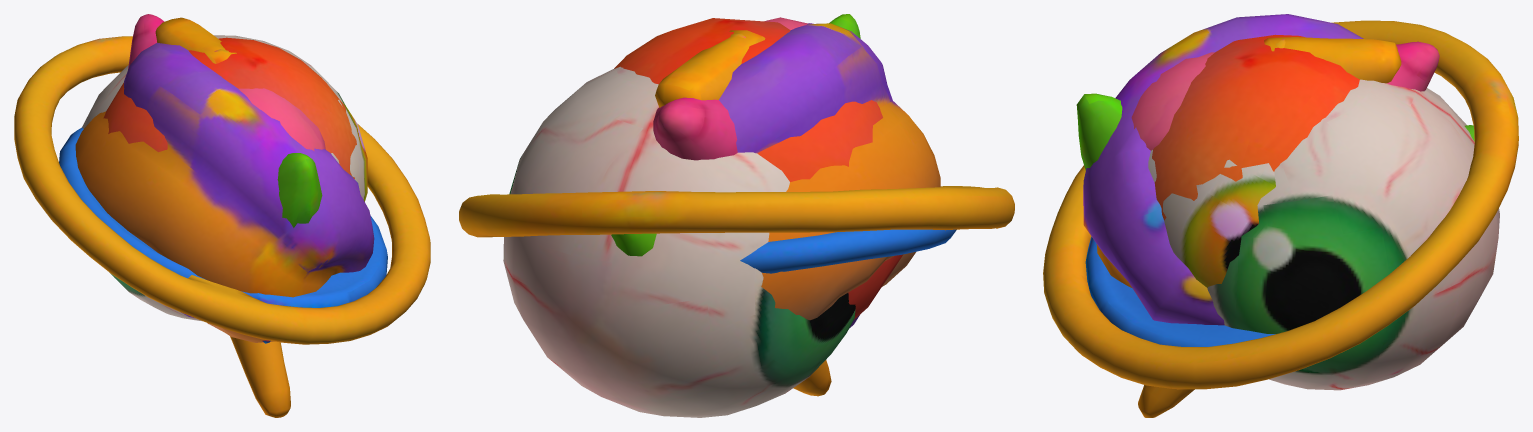
Rendered from 3delements_lowpoly.glb.
3 renders of one model, left to right at view 1: azimuth 30°, elevation 25°; view 2: azimuth 150°, elevation 25°; view 3: azimuth 270°, elevation 25°, orthographic. The views are drawn at different scales.
Visible parts, largest first — view 1: tripo_mesh_177b3e90_34ef_4382_8921_0266af9fbe1d.012, tripo_mesh_177b3e90_34ef_4382_8921_0266af9fbe1d.020, tripo_mesh_177b3e90_34ef_4382_8921_0266af9fbe1d.015, tripo_mesh_177b3e90_34ef_4382_8921_0266af9fbe1d.019, tripo_mesh_177b3e90_34ef_4382_8921_0266af9fbe1d.014, tripo_mesh_177b3e90_34ef_4382_8921_0266af9fbe1d.009, tripo_mesh_177b3e90_34ef_4382_8921_0266af9fbe1d.001, tripo_mesh_177b3e90_34ef_4382_8921_0266af9fbe1d, tripo_mesh_177b3e90_34ef_4382_8921_0266af9fbe1d.013; view 2: tripo_mesh_177b3e90_34ef_4382_8921_0266af9fbe1d.001, tripo_mesh_177b3e90_34ef_4382_8921_0266af9fbe1d.020, tripo_mesh_177b3e90_34ef_4382_8921_0266af9fbe1d.012, tripo_mesh_177b3e90_34ef_4382_8921_0266af9fbe1d.015, tripo_mesh_177b3e90_34ef_4382_8921_0266af9fbe1d.019, tripo_mesh_177b3e90_34ef_4382_8921_0266af9fbe1d.013, tripo_mesh_177b3e90_34ef_4382_8921_0266af9fbe1d.014; view 3: tripo_mesh_177b3e90_34ef_4382_8921_0266af9fbe1d.020, tripo_mesh_177b3e90_34ef_4382_8921_0266af9fbe1d.001, tripo_mesh_177b3e90_34ef_4382_8921_0266af9fbe1d.012, tripo_mesh_177b3e90_34ef_4382_8921_0266af9fbe1d, tripo_mesh_177b3e90_34ef_4382_8921_0266af9fbe1d.015, tripo_mesh_177b3e90_34ef_4382_8921_0266af9fbe1d.019, tripo_mesh_177b3e90_34ef_4382_8921_0266af9fbe1d.009, tripo_mesh_177b3e90_34ef_4382_8921_0266af9fbe1d.014, tripo_mesh_177b3e90_34ef_4382_8921_0266af9fbe1d.013.
Part boxes in pixels (x1,y1,x2,y2): tripo_mesh_177b3e90_34ef_4382_8921_0266af9fbe1d.012: [75, 42, 374, 342]; tripo_mesh_177b3e90_34ef_4382_8921_0266af9fbe1d.020: [14, 36, 430, 344]; tripo_mesh_177b3e90_34ef_4382_8921_0266af9fbe1d.015: [59, 127, 387, 317]; tripo_mesh_177b3e90_34ef_4382_8921_0266af9fbe1d.019: [155, 17, 290, 417]; tripo_mesh_177b3e90_34ef_4382_8921_0266af9fbe1d.014: [277, 153, 322, 227]; tripo_mesh_177b3e90_34ef_4382_8921_0266af9fbe1d.009: [239, 88, 325, 151]; tripo_mesh_177b3e90_34ef_4382_8921_0266af9fbe1d.001: [82, 35, 344, 321]; tripo_mesh_177b3e90_34ef_4382_8921_0266af9fbe1d: [331, 88, 367, 201]; tripo_mesh_177b3e90_34ef_4382_8921_0266af9fbe1d.013: [128, 14, 270, 343]; tripo_mesh_177b3e90_34ef_4382_8921_0266af9fbe1d.001: [503, 66, 855, 417]; tripo_mesh_177b3e90_34ef_4382_8921_0266af9fbe1d.020: [459, 18, 1014, 319]; tripo_mesh_177b3e90_34ef_4382_8921_0266af9fbe1d.012: [719, 23, 940, 320]; tripo_mesh_177b3e90_34ef_4382_8921_0266af9fbe1d.015: [740, 229, 956, 328]; tripo_mesh_177b3e90_34ef_4382_8921_0266af9fbe1d.019: [655, 30, 831, 396]; tripo_mesh_177b3e90_34ef_4382_8921_0266af9fbe1d.013: [653, 97, 737, 160]; tripo_mesh_177b3e90_34ef_4382_8921_0266af9fbe1d.014: [611, 14, 860, 256]; tripo_mesh_177b3e90_34ef_4382_8921_0266af9fbe1d.020: [1043, 20, 1518, 389]; tripo_mesh_177b3e90_34ef_4382_8921_0266af9fbe1d.001: [1207, 79, 1499, 390]; tripo_mesh_177b3e90_34ef_4382_8921_0266af9fbe1d.012: [1083, 14, 1363, 325]; tripo_mesh_177b3e90_34ef_4382_8921_0266af9fbe1d: [1163, 159, 1275, 287]; tripo_mesh_177b3e90_34ef_4382_8921_0266af9fbe1d.015: [1085, 236, 1275, 346]; tripo_mesh_177b3e90_34ef_4382_8921_0266af9fbe1d.019: [1138, 37, 1401, 417]; tripo_mesh_177b3e90_34ef_4382_8921_0266af9fbe1d.009: [1131, 52, 1214, 150]; tripo_mesh_177b3e90_34ef_4382_8921_0266af9fbe1d.014: [1076, 93, 1474, 170]; tripo_mesh_177b3e90_34ef_4382_8921_0266af9fbe1d.013: [1387, 41, 1439, 91].
Bounding box in the file's own units: 0.2644 × 0.2169 × 0.2495.
Materials: 1 (1 with a texture image).
